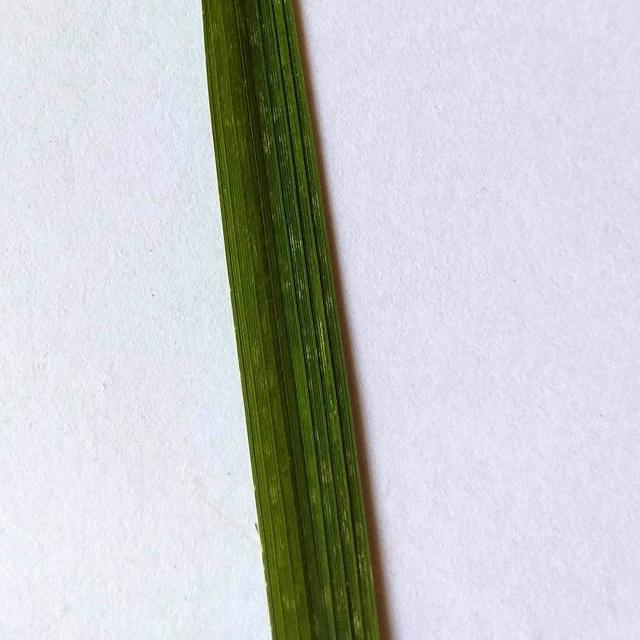Rice_Healthy: (203, 0, 379, 640)
